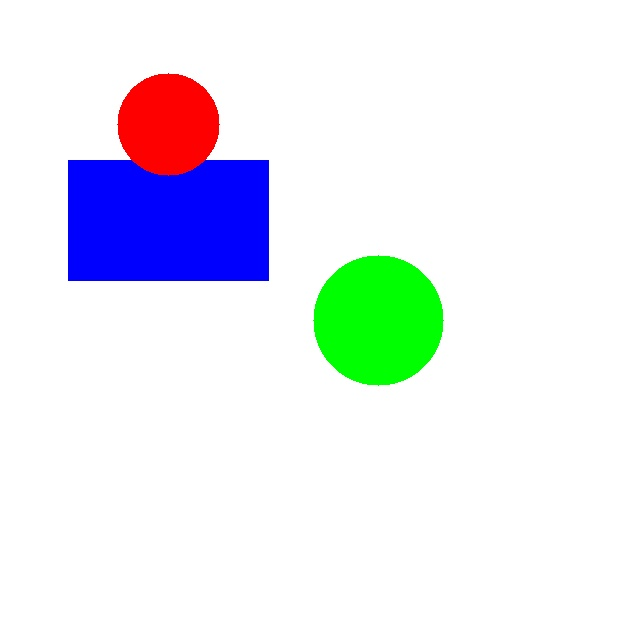cartao: (68, 160, 268, 280)
rosca_externa: (313, 255, 443, 385)
rosca_interna: (117, 73, 219, 175)
